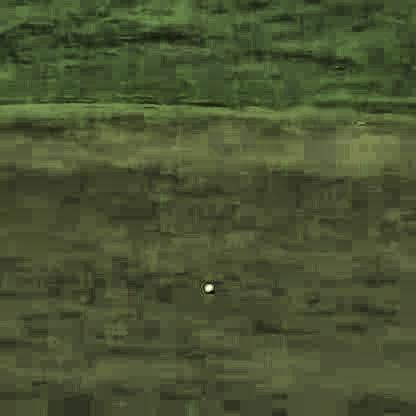golfball: (201, 280, 212, 291)
